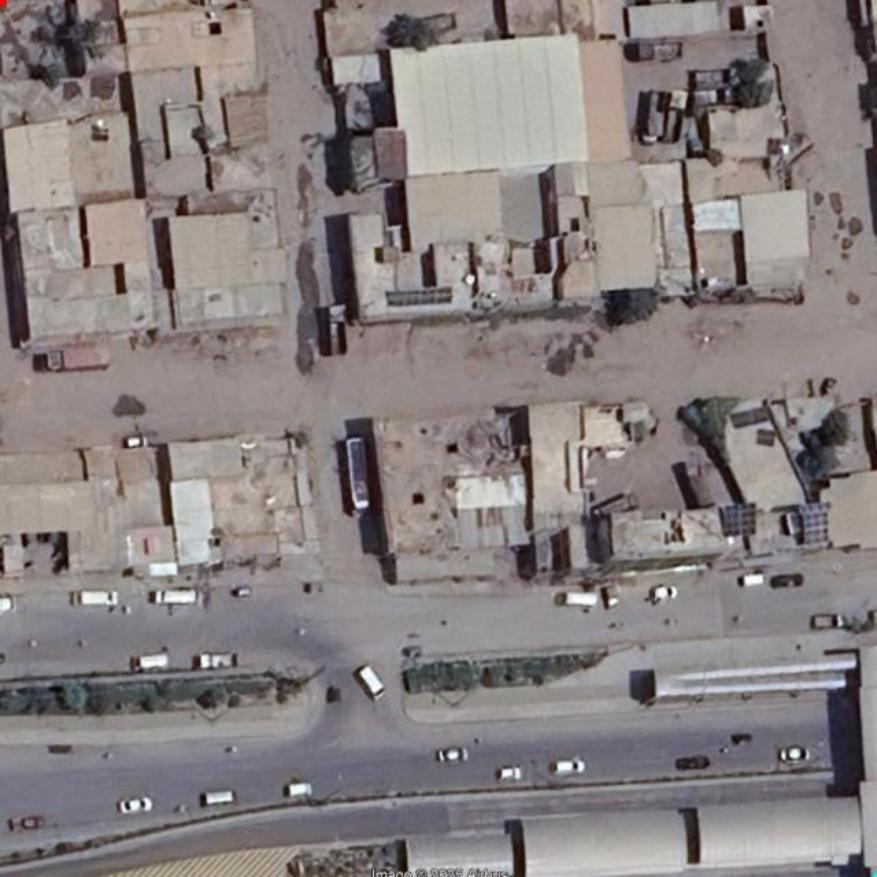Solarpanel: (723, 503, 755, 537), (801, 505, 829, 543)
